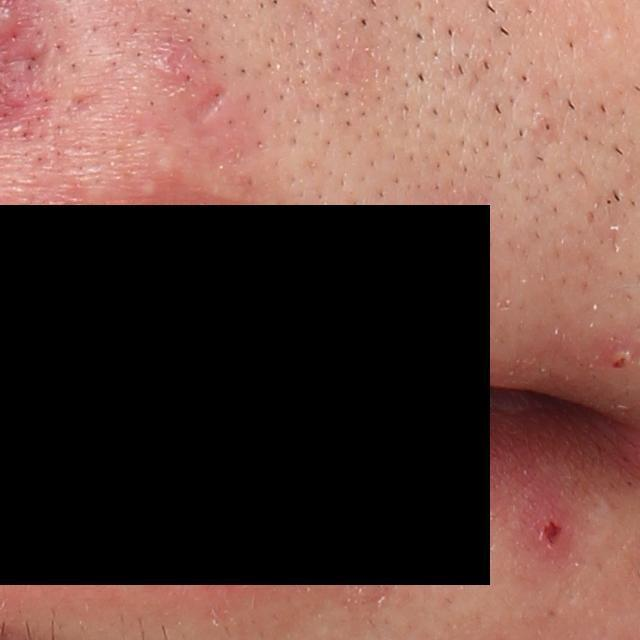atrophic_scar: (193, 84, 232, 126)
papule: (521, 498, 575, 562)
